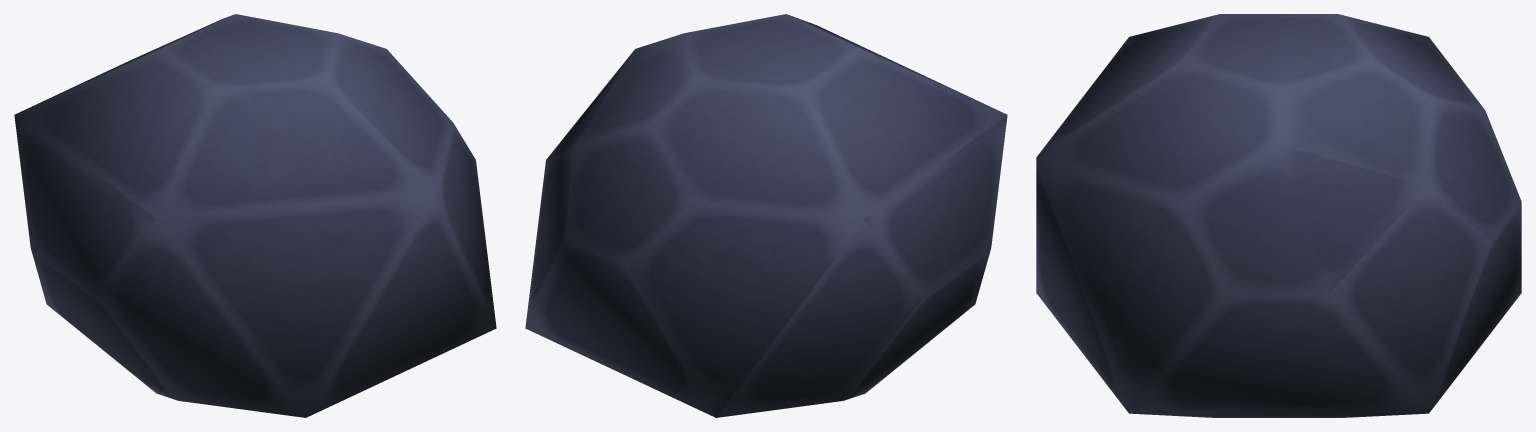
Rendered from splippy_rock_02.fbx.
The picture shows the model from 3 angles, left to right: view 1: azimuth 30°, elevation 25°; view 2: azimuth 150°, elevation 25°; view 3: azimuth 270°, elevation 25°; orthographic projection. The views are drawn at different scales.
Parts seen in each view (by area): view 1: splippy_rock_02; view 2: splippy_rock_02; view 3: splippy_rock_02.
Part boxes in pixels (x1=…): splippy_rock_02: x1=14, y1=14, x2=496, y2=417; splippy_rock_02: x1=525, y1=14, x2=1007, y2=417; splippy_rock_02: x1=1036, y1=14, x2=1521, y2=417.
Bounding box in the file's own units: 52.89 × 41.22 × 54.53.
1 material, 1 textured.
